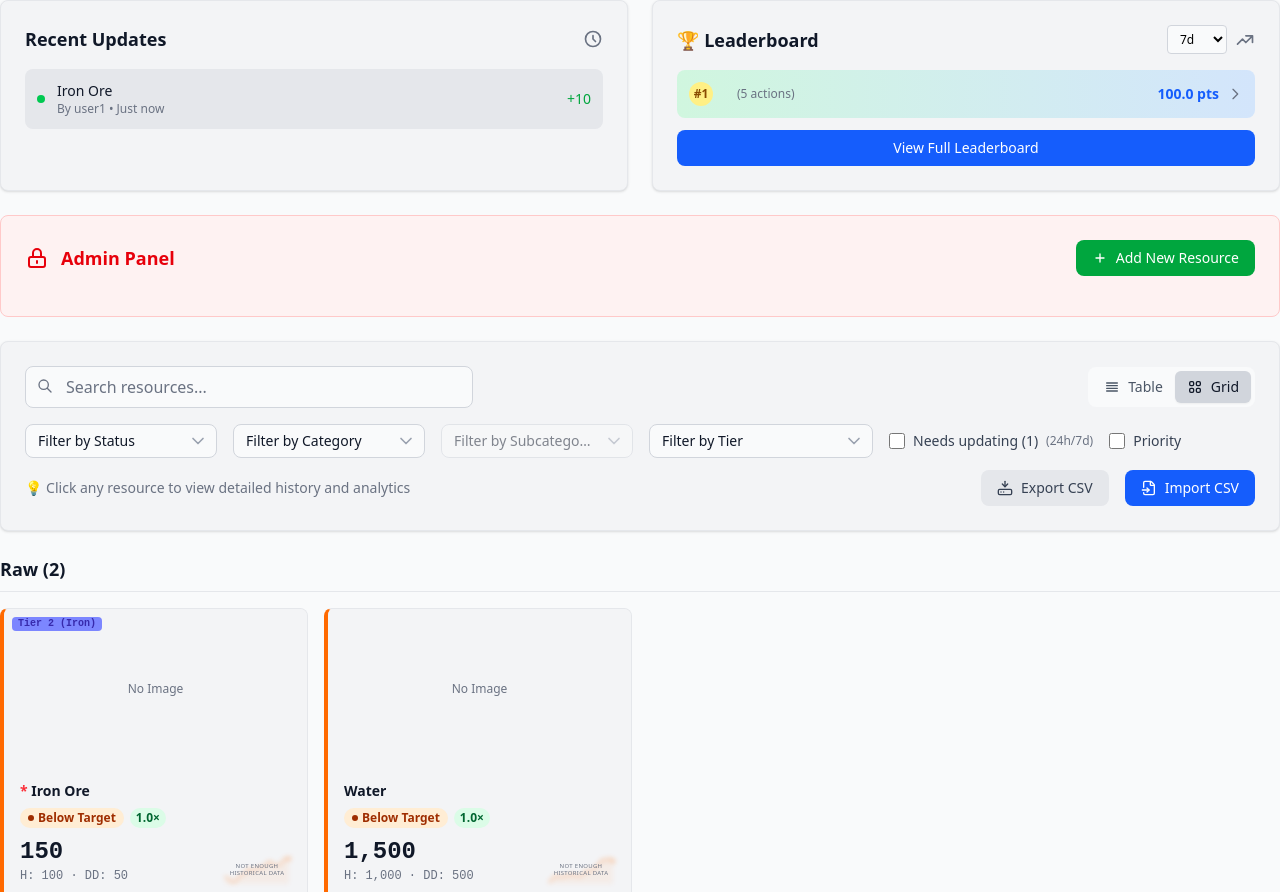
Test: ResourceTable › filters resources by tier
Check: the heading "Recent Updates" is shown, box [25,25,166,53]
Click the button "Table". click: click(1134, 387)
box: [1092,371,1175,403]
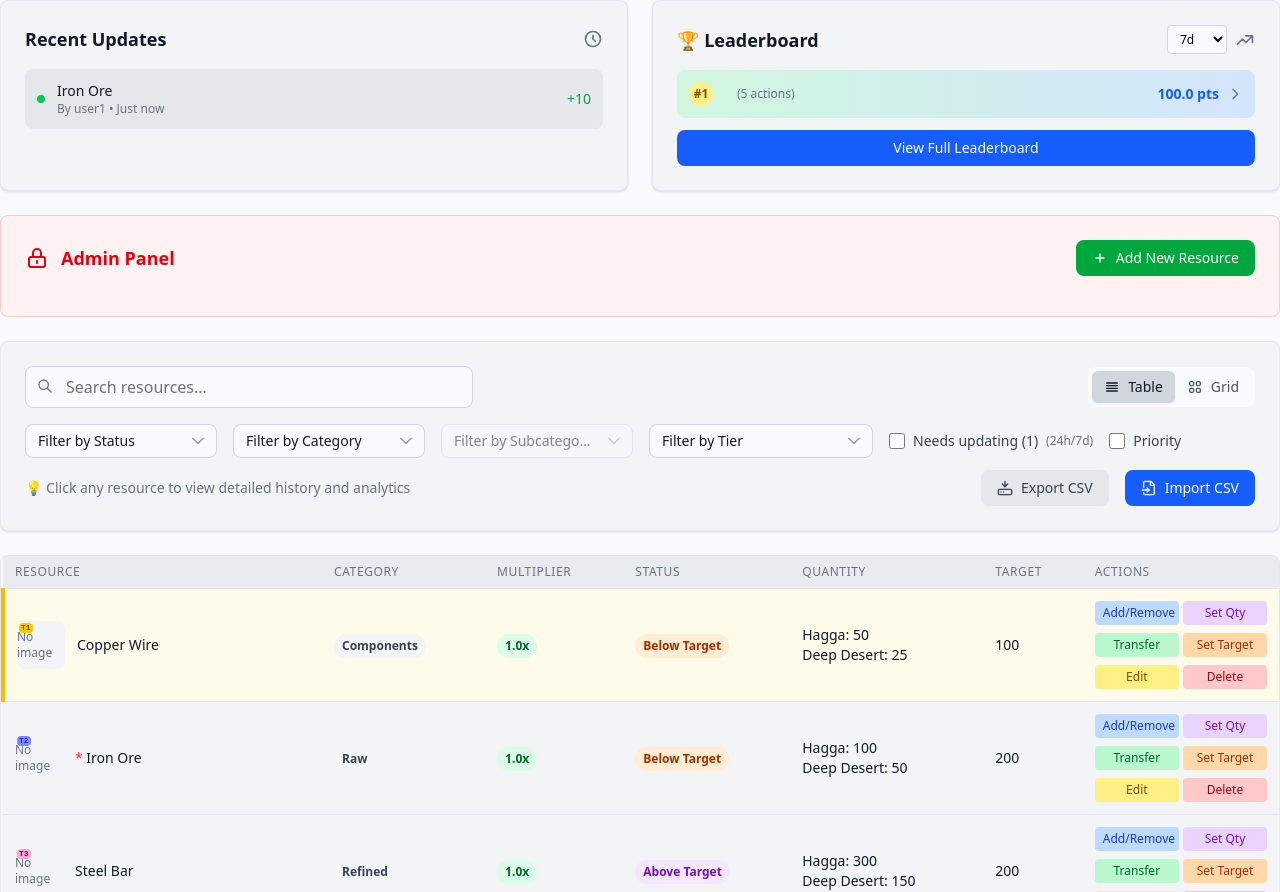
Click the button with test id "tier-filter". click: click(761, 441)
box: [649,424,873,458]
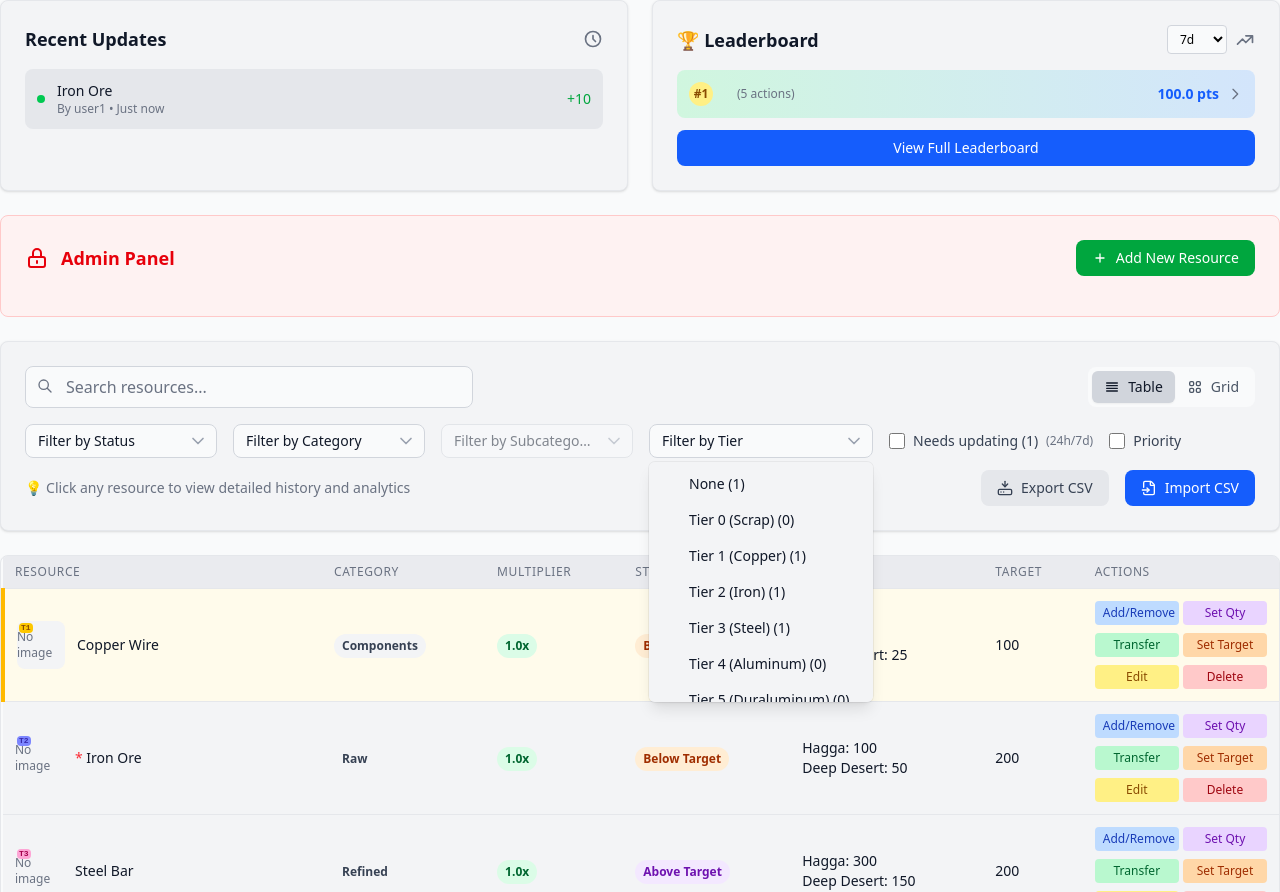
Click the option "Tier 1 (Copper) (1)". click: click(748, 556)
box: [689,546,806,565]
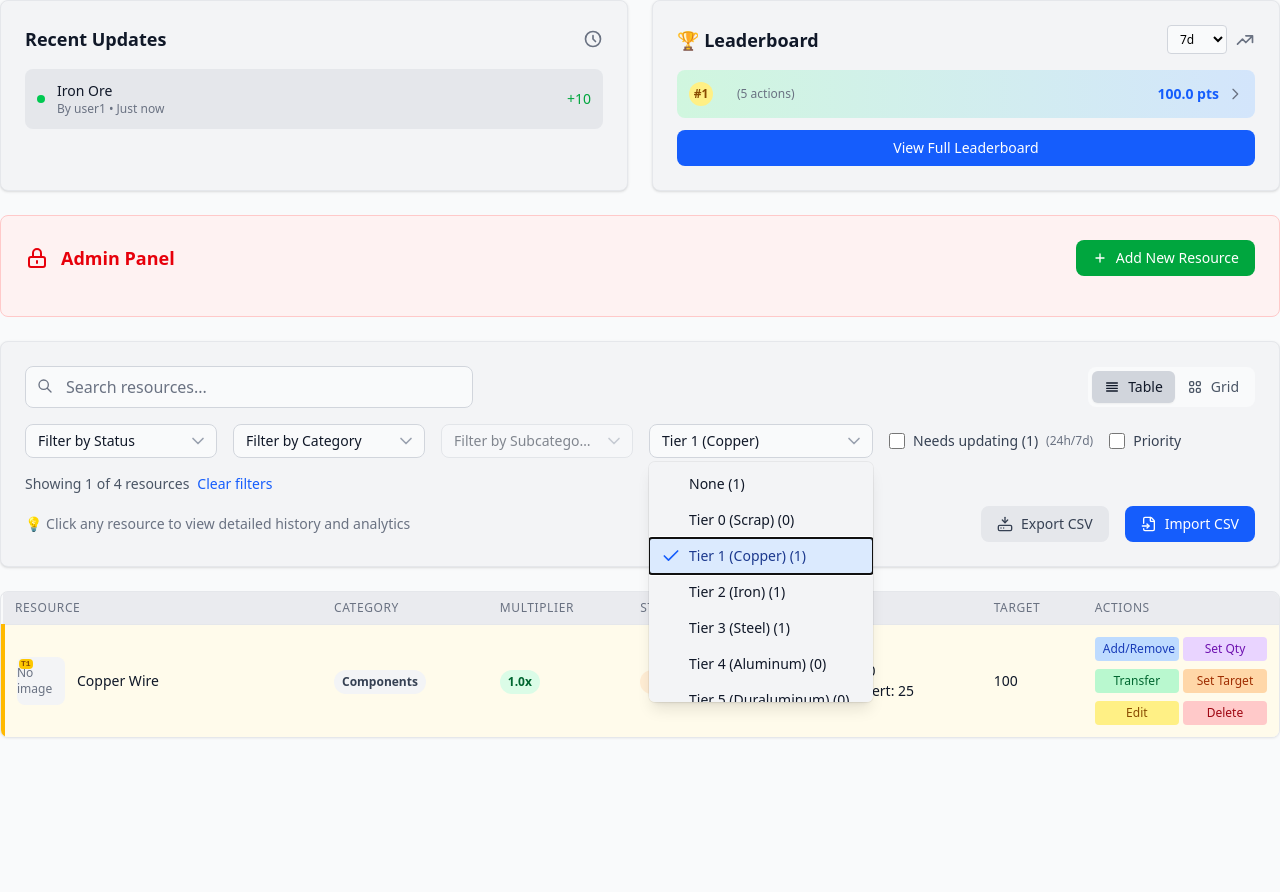
Check: the text "Copper Wire" is shown, box [77,671,159,690]
Check: the text "Steel Bar" is gone
